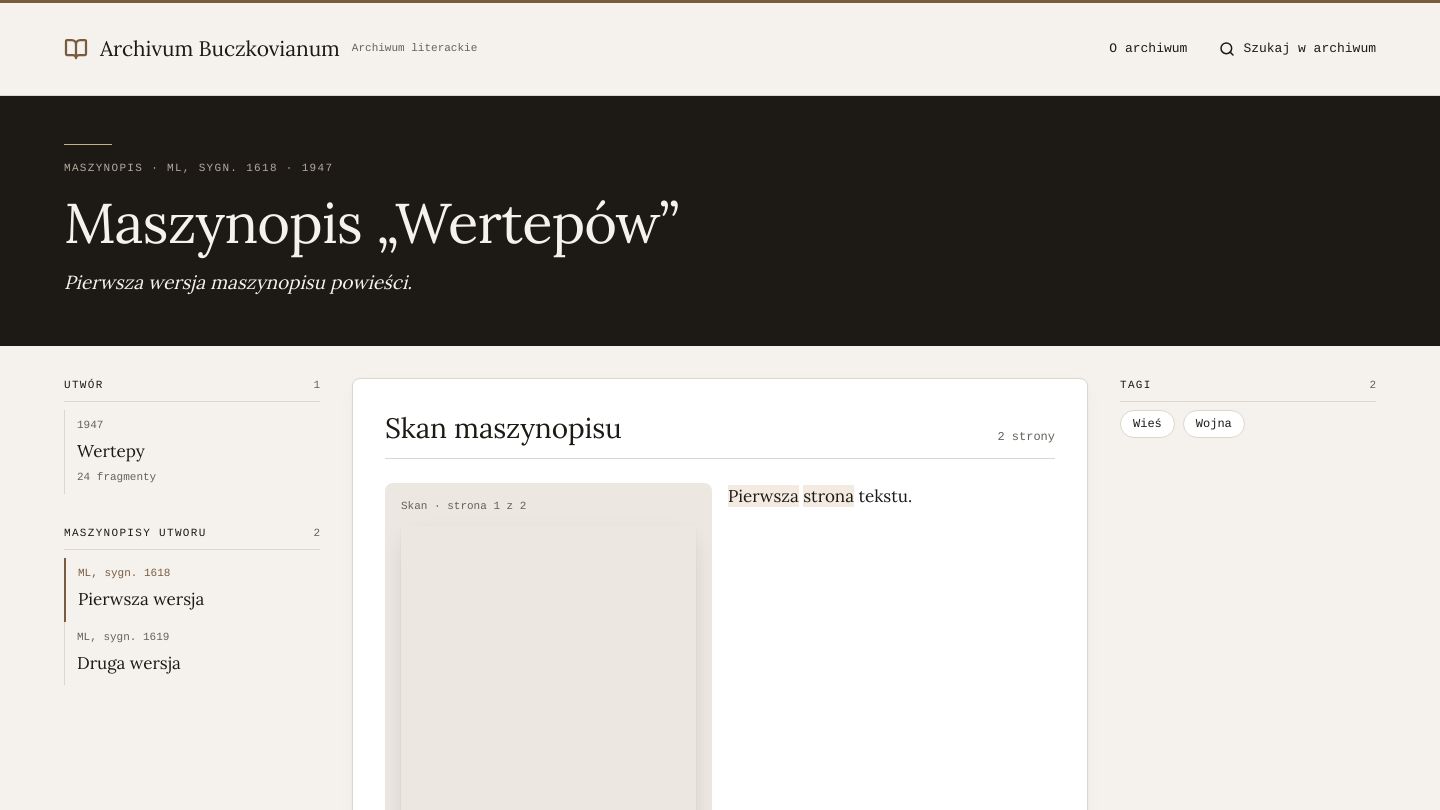
Test: TypescriptPage › R-11 AC2: fragments are highlighted; clicking one shows its tags, each linking to its tag page
The image size is (1440, 810).
Expected: the heading "Maszynopis „Wertepów”" is shown, [64,187,678,258]
Click the button with aria-label "Fragment 01: Pierwsza" at (763, 496), box [728,484,799,506]
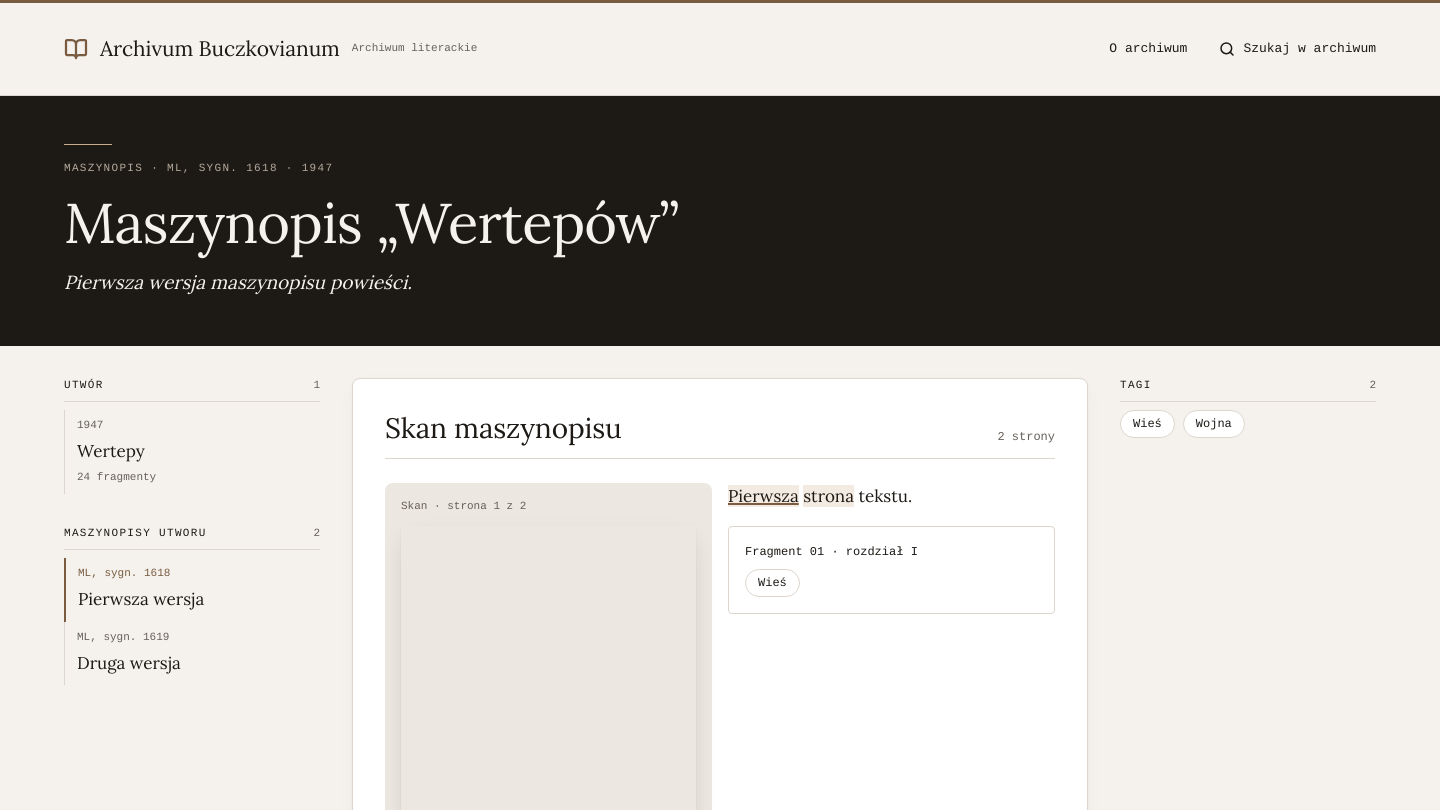
Expected: the text "Fragment 01 · rozdział I" is shown, [745,545,918,559]
